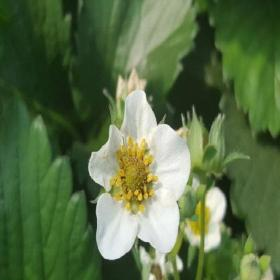Blossom Blight: (107, 135, 160, 216)
